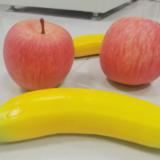apple: (4, 18, 75, 92), (100, 18, 160, 86)
